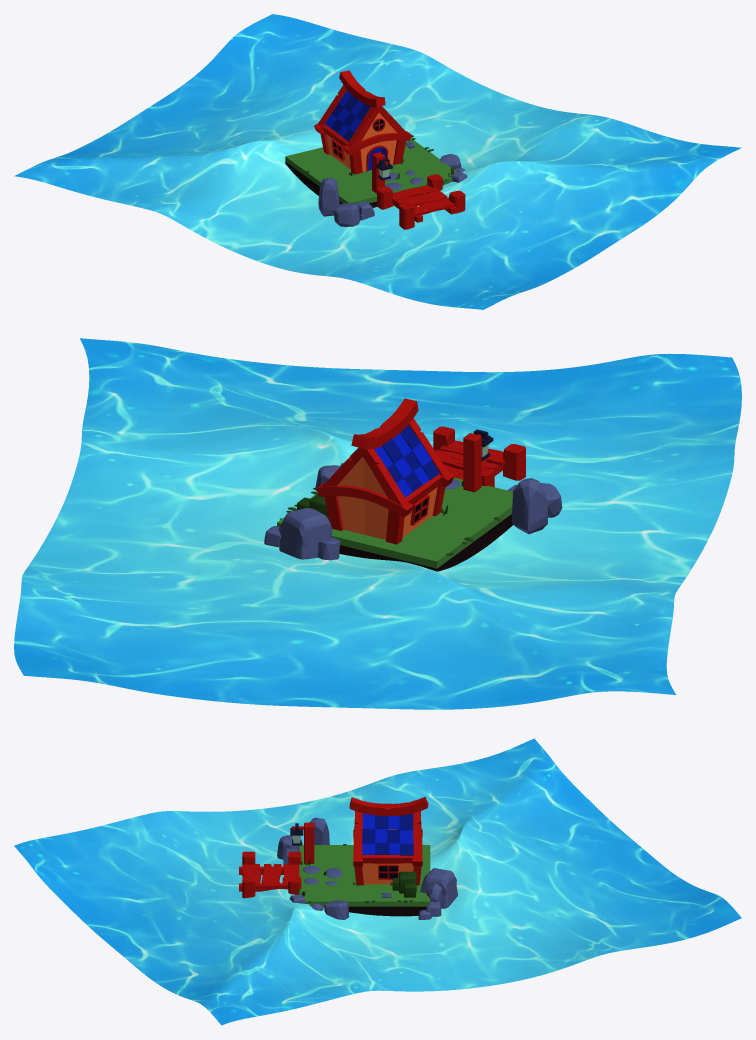
The model's file is casa.obj.
The picture shows the model from 3 angles, top to bottom: view 1: azimuth 30°, elevation 25°; view 2: azimuth 150°, elevation 25°; view 3: azimuth 270°, elevation 25°; orthographic projection. The views are drawn at different scales.
Visible parts, largest first — view 1: Sea_Plano.002, Base_Cubo.044, wood_Cubo.001, walls_Cubo, woodup_Cubo.004, Cubo.103_Cubo.118, Cubo.102_Cubo.117; view 2: Sea_Plano.002, Base_Cubo.044, wood_Cubo.001, walls_Cubo, Cubo.056_Cubo.071, Cubo.103_Cubo.118, woodup_Cubo.004, Cubo.046_Cubo.056, Cubo.045; view 3: Sea_Plano.002, Base_Cubo.044, wood_Cubo.001, woodup_Cubo.004, Cubo.056_Cubo.071, walls_Cubo.
Part boxes in pixels (x1,y1,x2,y2): Sea_Plano.002: (14,14,741,309); Base_Cubo.044: (285,138,456,207); wood_Cubo.001: (314,85,411,174); walls_Cubo: (326,113,396,171); woodup_Cubo.004: (339,70,385,107); Cubo.103_Cubo.118: (318,178,339,216); Cubo.102_Cubo.117: (333,202,360,226); Sea_Plano.002: (14,338,741,709); Base_Cubo.044: (277,477,513,571); wood_Cubo.001: (316,418,454,544); walls_Cubo: (337,457,437,539); Cubo.056_Cubo.071: (279,508,332,559); Cubo.103_Cubo.118: (511,478,547,534); woodup_Cubo.004: (351,398,418,449); Cubo.046_Cubo.056: (463,433,481,492); Cubo.045: (503,444,525,480); Sea_Plano.002: (14,738,741,1025); Base_Cubo.044: (299,845,430,916); wood_Cubo.001: (353,811,422,885); woodup_Cubo.004: (349,797,428,815); Cubo.056_Cubo.071: (420,868,457,908); walls_Cubo: (362,813,413,884).
Size of the model in its own units: 66.1 by 10.7 by 70.84.
Materials: 13 (1 with a texture image).
